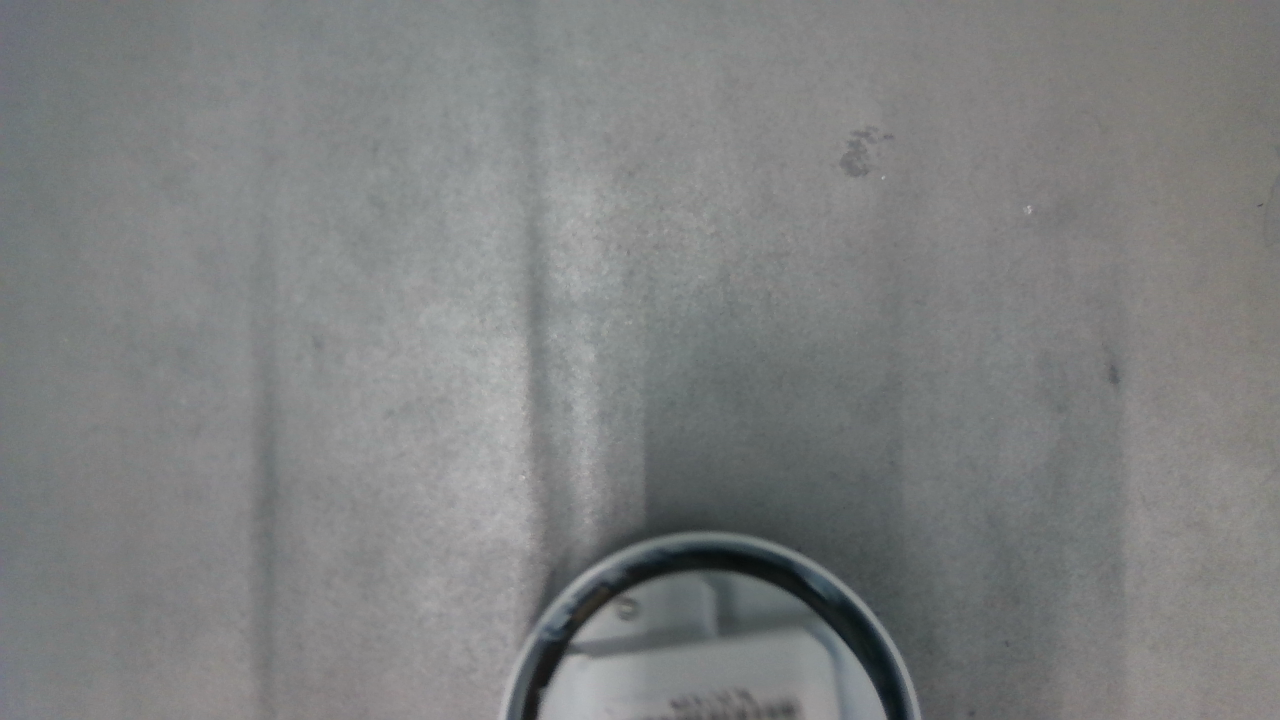HexScrew: (616, 600, 639, 622)
